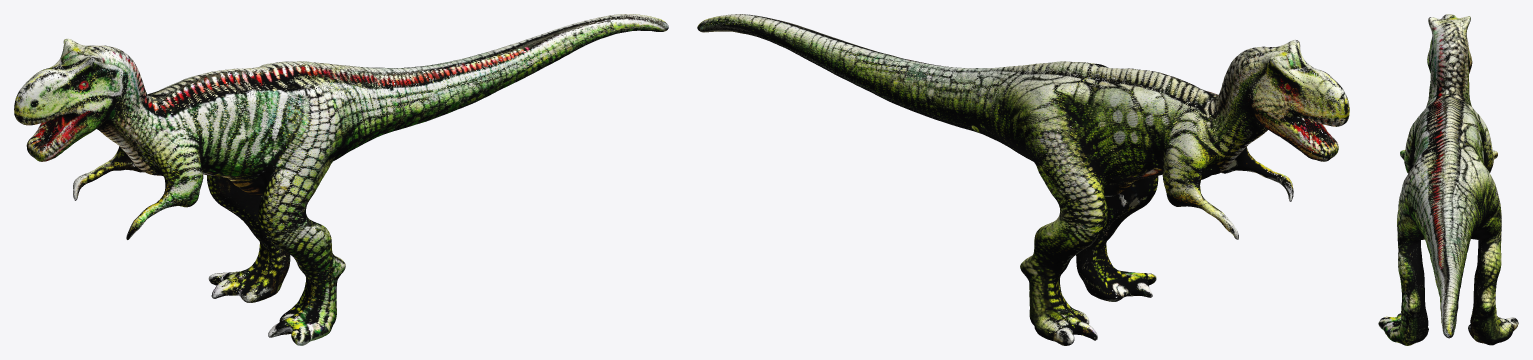
File: textured_image.glb
3 views of the same model, side by side, from view 1: azimuth 30°, elevation 25°; view 2: azimuth 150°, elevation 25°; view 3: azimuth 270°, elevation 25° (orthographic). The views are drawn at different scales.
Visible parts, largest first — view 1: Node; view 2: Node; view 3: Node.
Part boxes in pixels (left/top/right/bottom): Node: left=14, top=14, right=668, bottom=345; Node: left=697, top=14, right=1349, bottom=345; Node: left=1378, top=14, right=1518, bottom=345.
Bounding box in the file's own units: 2 × 0.9168 × 0.4752.
Materials: 1 (1 with a texture image).
